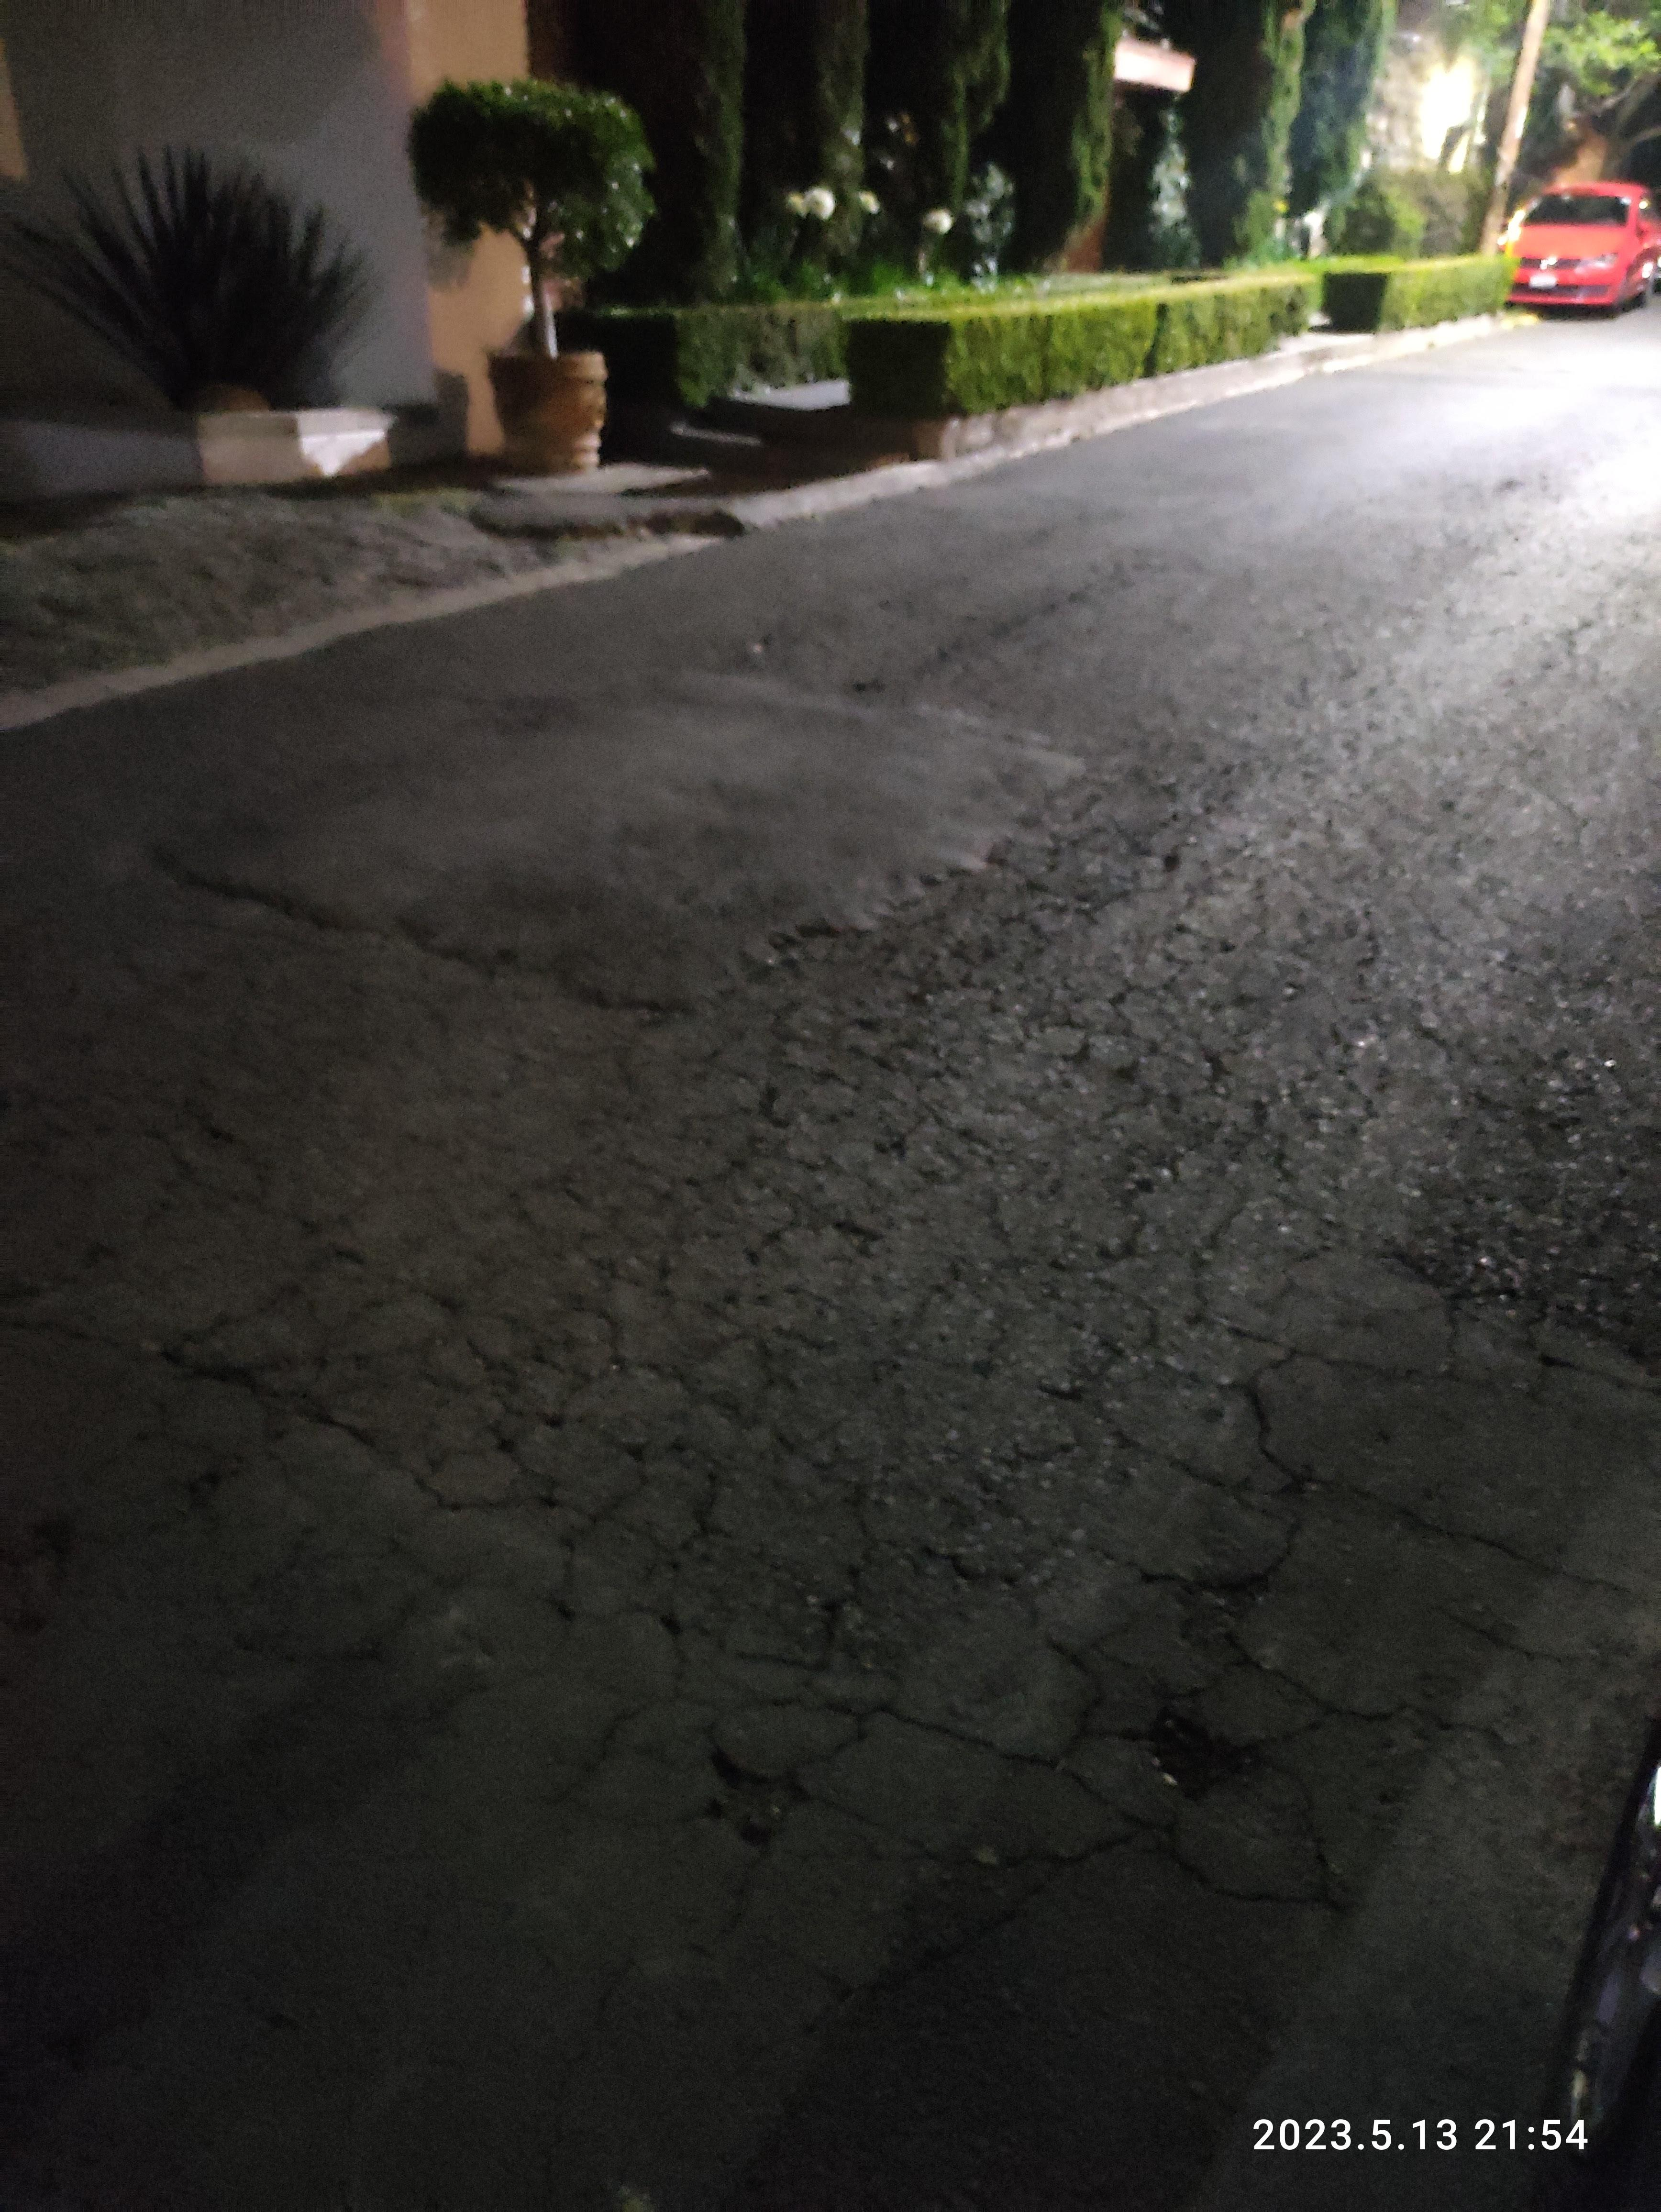alligator-crack: (274, 902, 1469, 1880)
